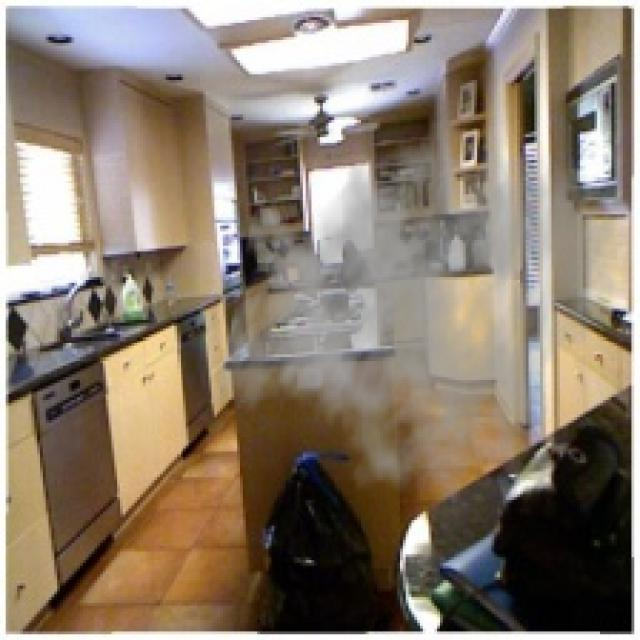Smoke: (214, 94, 623, 512)
